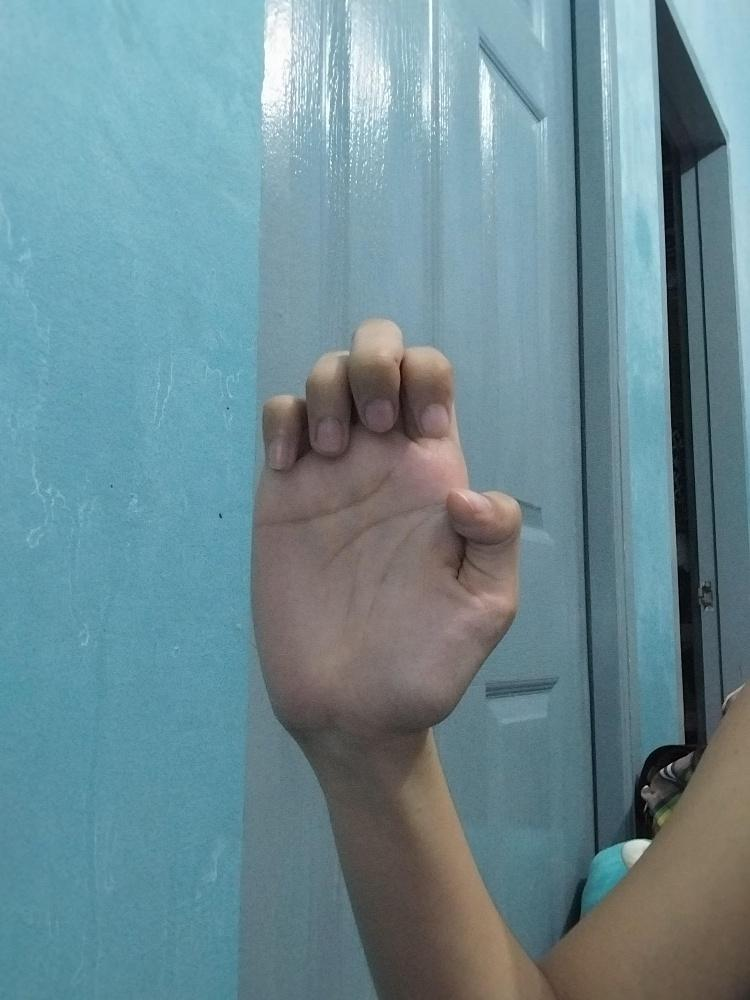e: (251, 314, 522, 740)
